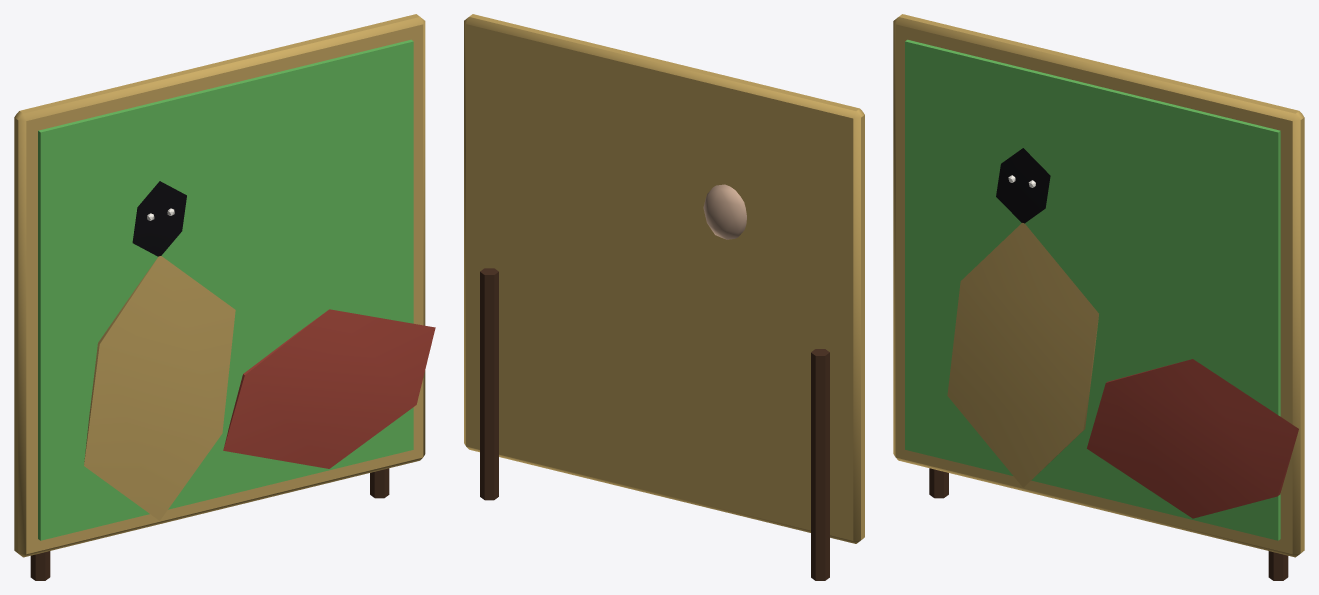
Rendered from photo_cutout.glb.
3 views of the same model, side by side, from view 1: azimuth 30°, elevation 25°; view 2: azimuth 150°, elevation 25°; view 3: azimuth 330°, elevation 25° (orthographic). The views are drawn at different scales.
Parts seen in each view (by area): view 1: photo_cutout; view 2: photo_cutout; view 3: photo_cutout.
Part boxes in pixels (x1,y1,x2,y2): photo_cutout: (14,14,435,580); photo_cutout: (464,14,864,580); photo_cutout: (893,14,1304,580).
Bounding box in the file's own units: 2.43 × 2.7 × 0.2587.
